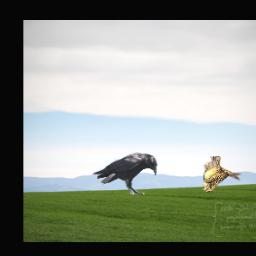Crow: (91, 153, 157, 195)
Sparrow: (203, 156, 242, 193)
